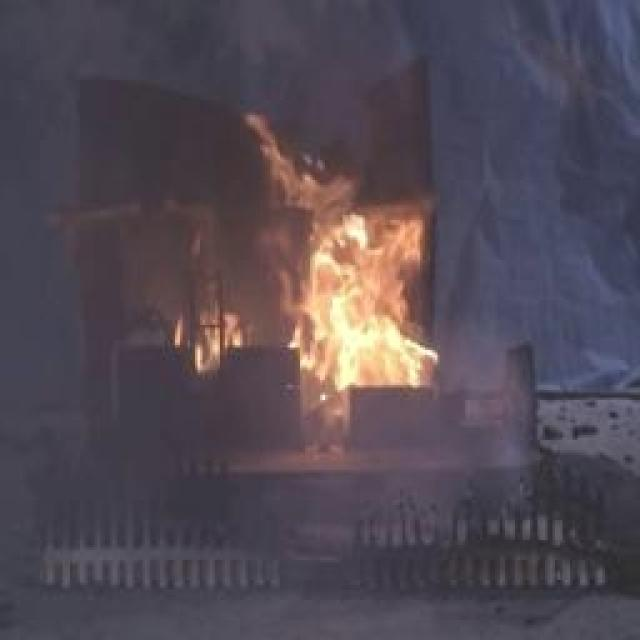fire: (227, 124, 455, 401)
